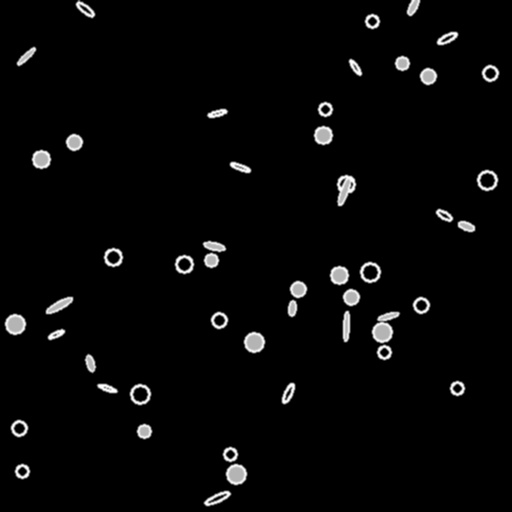pseudomonas: (45, 296, 73, 314), (336, 177, 352, 205), (204, 490, 230, 506), (75, 0, 95, 18), (16, 47, 36, 65), (436, 31, 458, 45), (281, 382, 295, 404), (229, 161, 251, 173), (203, 240, 225, 252), (435, 208, 453, 222), (406, 0, 420, 16), (348, 59, 362, 75), (457, 220, 475, 232), (84, 354, 96, 372), (207, 108, 227, 118), (378, 311, 398, 321), (97, 383, 117, 393), (48, 328, 64, 340), (343, 311, 349, 341), (288, 300, 296, 316)
synechocystis: (373, 323, 391, 341), (478, 171, 496, 189), (361, 263, 379, 281), (6, 315, 24, 333), (245, 333, 263, 351), (131, 385, 149, 403), (227, 465, 245, 483), (331, 267, 347, 283), (33, 151, 49, 167), (176, 256, 192, 272), (105, 249, 121, 265), (315, 127, 331, 143), (338, 176, 354, 192), (344, 290, 358, 304), (483, 66, 497, 80), (291, 282, 305, 296), (421, 69, 435, 83), (67, 135, 81, 149), (212, 313, 226, 327), (414, 298, 428, 312), (12, 421, 26, 435), (138, 425, 150, 437), (16, 465, 28, 477), (396, 57, 408, 69), (451, 382, 463, 394), (205, 254, 217, 266), (378, 346, 390, 358), (366, 15, 378, 27), (224, 448, 236, 460), (319, 103, 331, 115)
